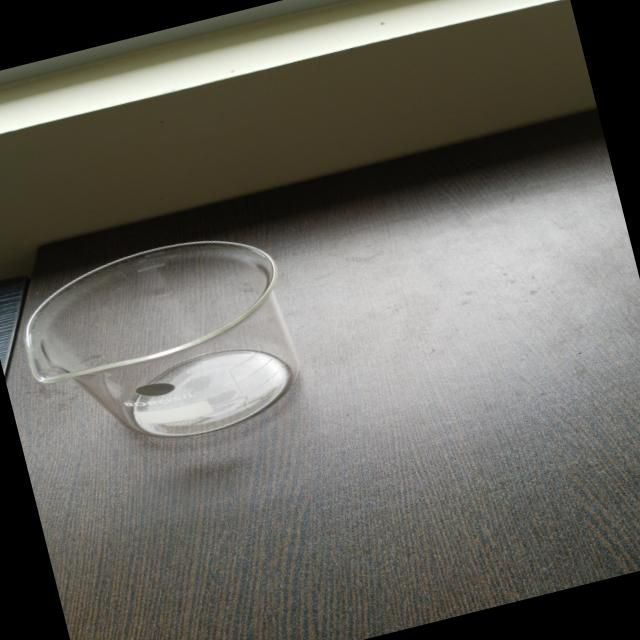beaker: (2, 217, 318, 476)
